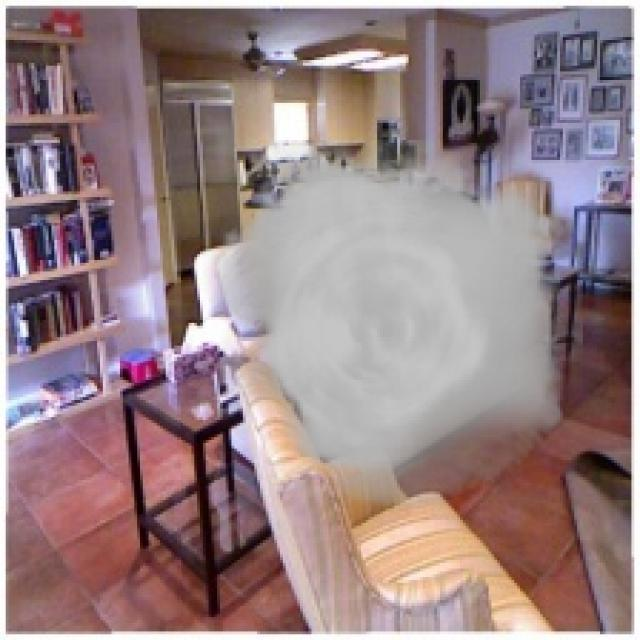Smoke: (203, 140, 583, 509)
